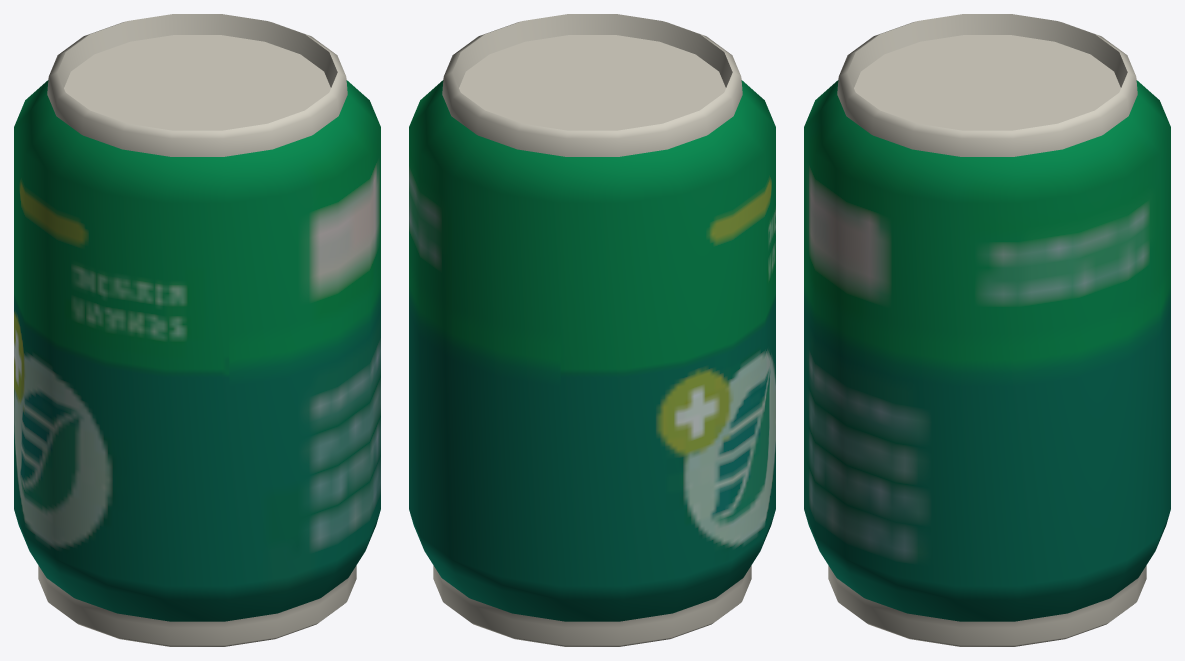
File: ToolCanTea.glb
3 renders of one model, left to right at view 1: azimuth 30°, elevation 25°; view 2: azimuth 150°, elevation 25°; view 3: azimuth 270°, elevation 25°, orthographic.
Visible parts, largest first — view 1: can__mTool; view 2: can__mTool; view 3: can__mTool.
Part boxes in pixels (x1=…): can__mTool: x1=14, y1=14, x2=380, y2=646; can__mTool: x1=409, y1=14, x2=775, y2=646; can__mTool: x1=804, y1=14, x2=1170, y2=646.
Bounding box in the file's own units: 1.58 × 2.52 × 1.6.
1 material, 1 textured.
